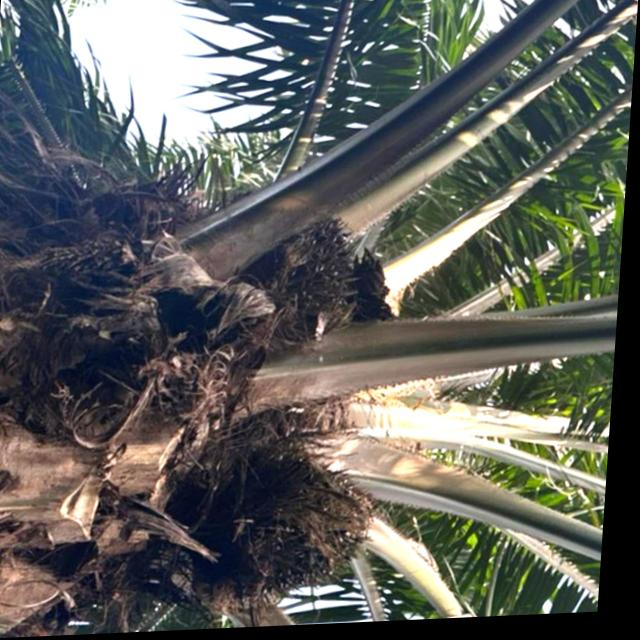ripe: (254, 191, 386, 360)
